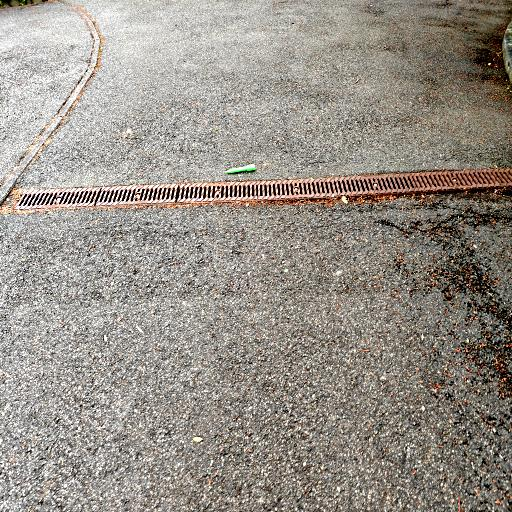Probe-Detection: (225, 164, 255, 174)
